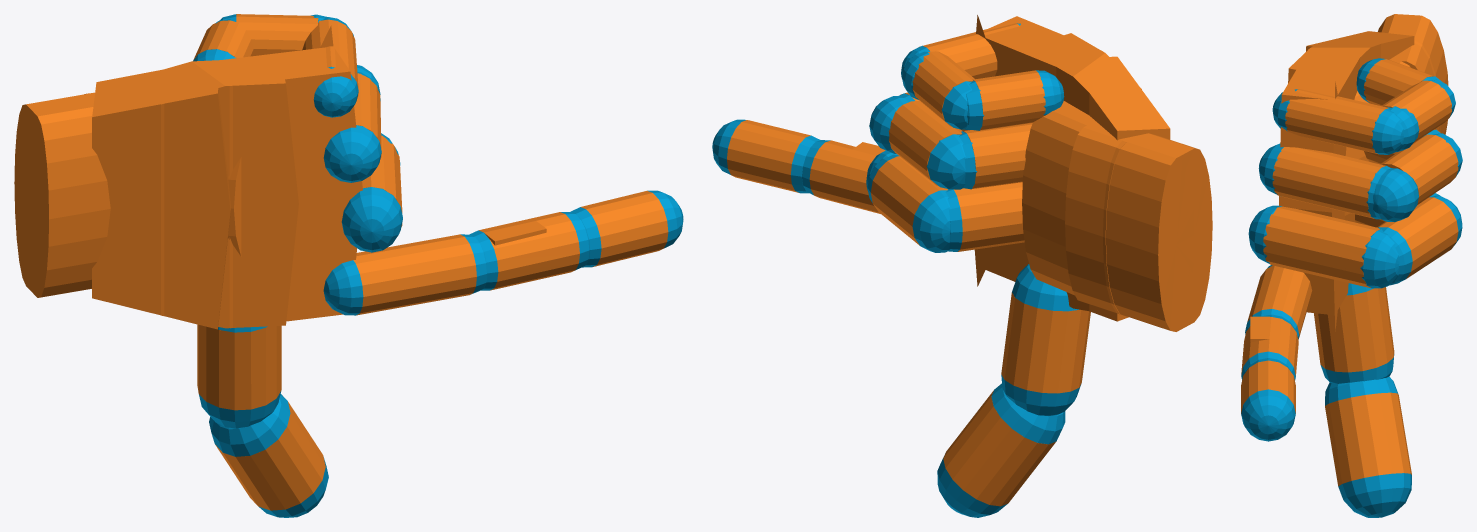
File: tinker.obj
3 renders of one model, left to right at view 1: azimuth 30°, elevation 25°; view 2: azimuth 150°, elevation 25°; view 3: azimuth 270°, elevation 25°, orthographic. The views are drawn at different scales.
Visible parts, largest first — view 1: group_0_16089887, group_0_40919; view 2: group_0_16089887, group_0_40919; view 3: group_0_16089887, group_0_40919.
Part boxes in pixels (x1,y1,x2,y2): group_0_16089887: (14, 14, 668, 510); group_0_40919: (193, 14, 683, 517); group_0_16089887: (727, 15, 1212, 506); group_0_40919: (712, 23, 1081, 517); group_0_16089887: (1241, 14, 1458, 486); group_0_40919: (1241, 58, 1462, 517).
Bounding box in the file's own units: 137 × 114 × 51.43.
